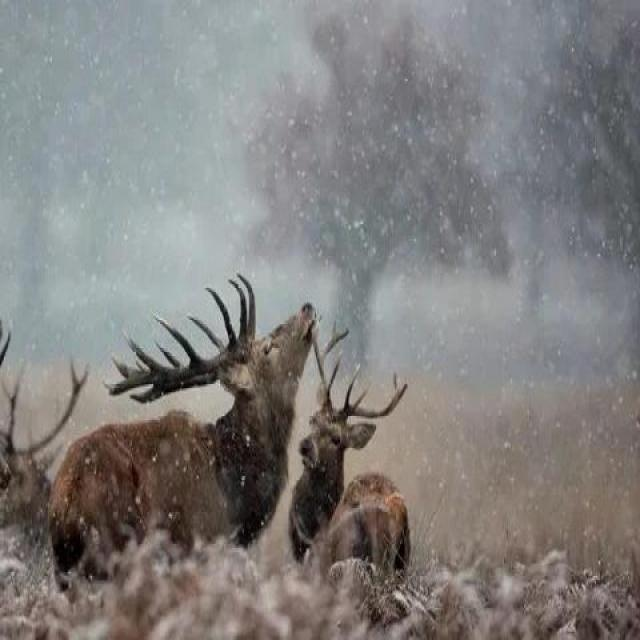deer: (76, 255, 324, 617), (255, 338, 408, 602)
